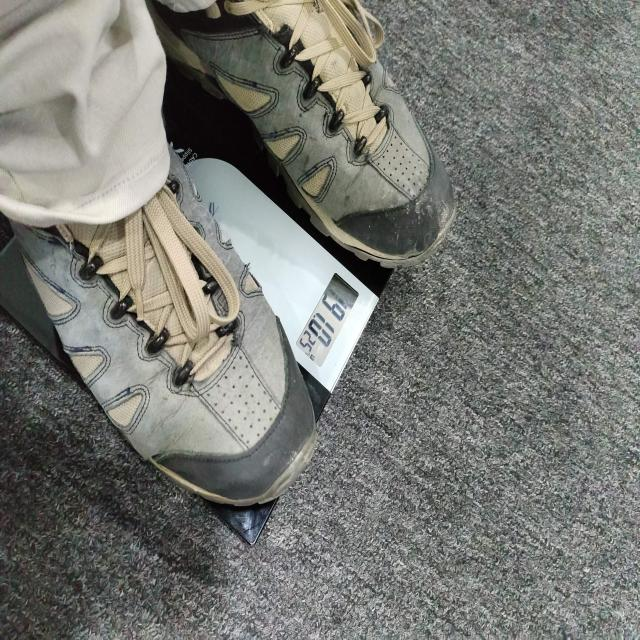ws: (171, 149, 388, 417)
